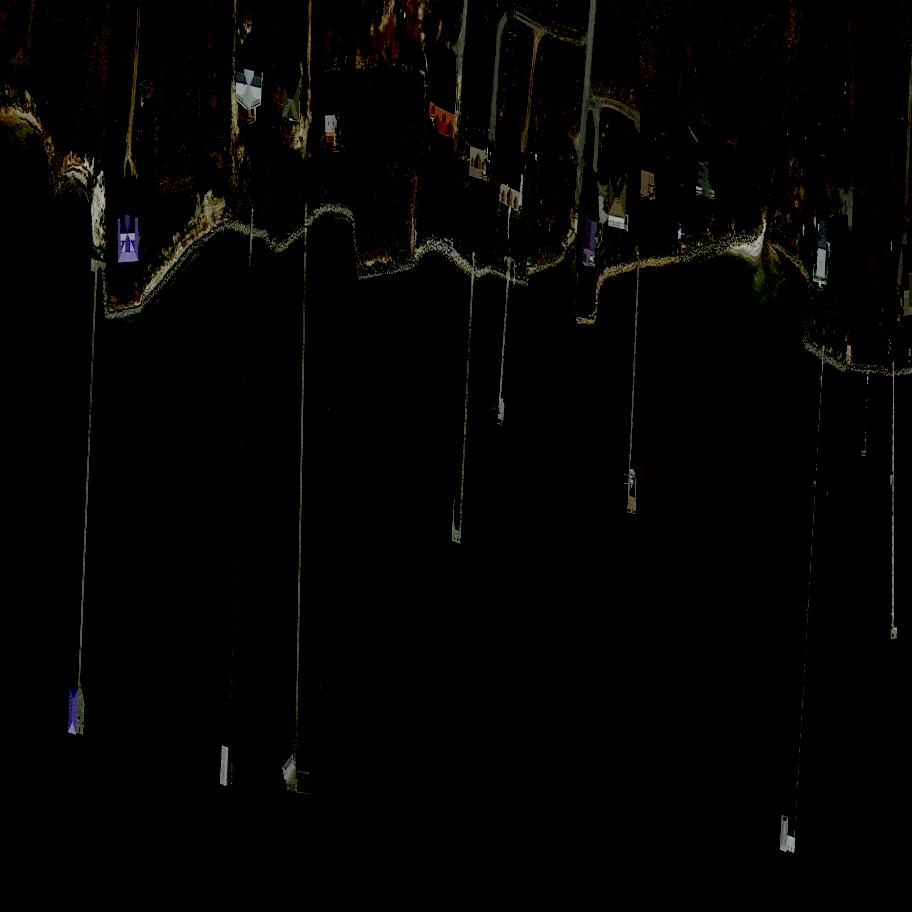ship: (492, 391, 499, 412), (631, 469, 634, 489)
small-vehicle: (489, 142, 497, 167), (484, 146, 494, 164), (678, 223, 685, 242), (646, 131, 653, 139)
